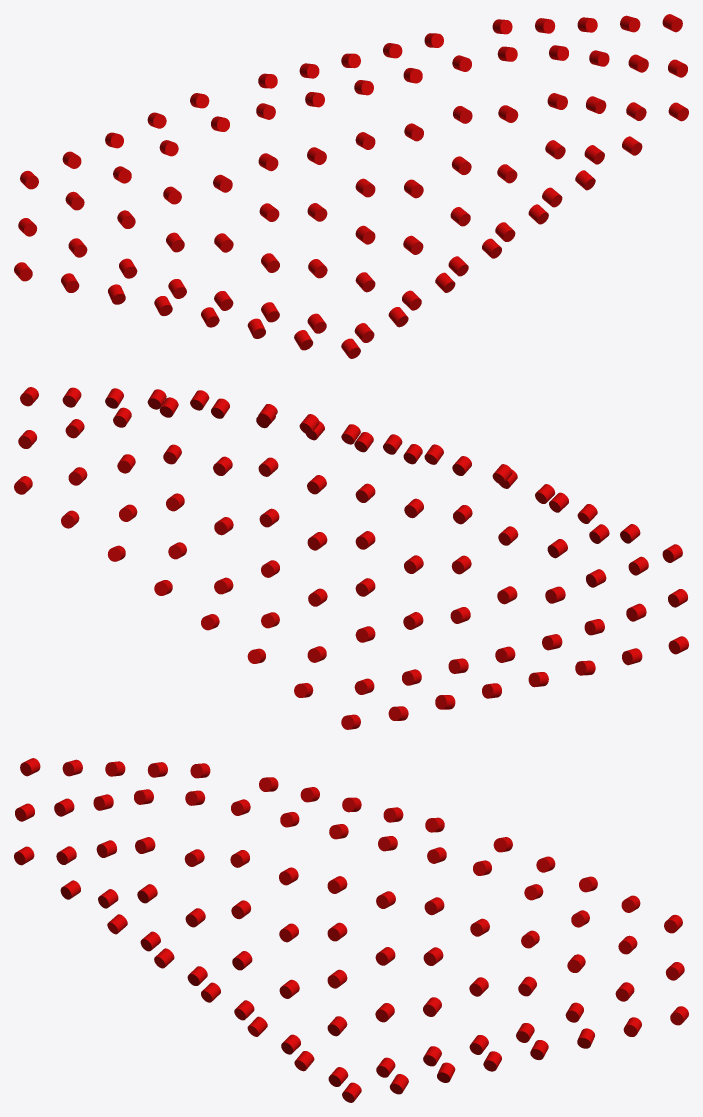
The picture shows the model from 3 angles, top to bottom: view 1: azimuth 30°, elevation 25°; view 2: azimuth 150°, elevation 25°; view 3: azimuth 330°, elevation 25°; orthographic projection.
Size of the model in its own units: 0.0534 by 0.0232 by 0.00325.
